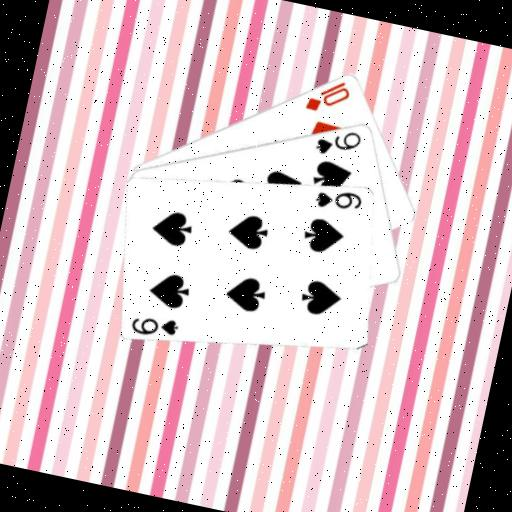10D: (301, 70, 354, 119)
6S: (310, 181, 365, 216), (127, 308, 182, 343)
9S: (311, 120, 364, 163)
